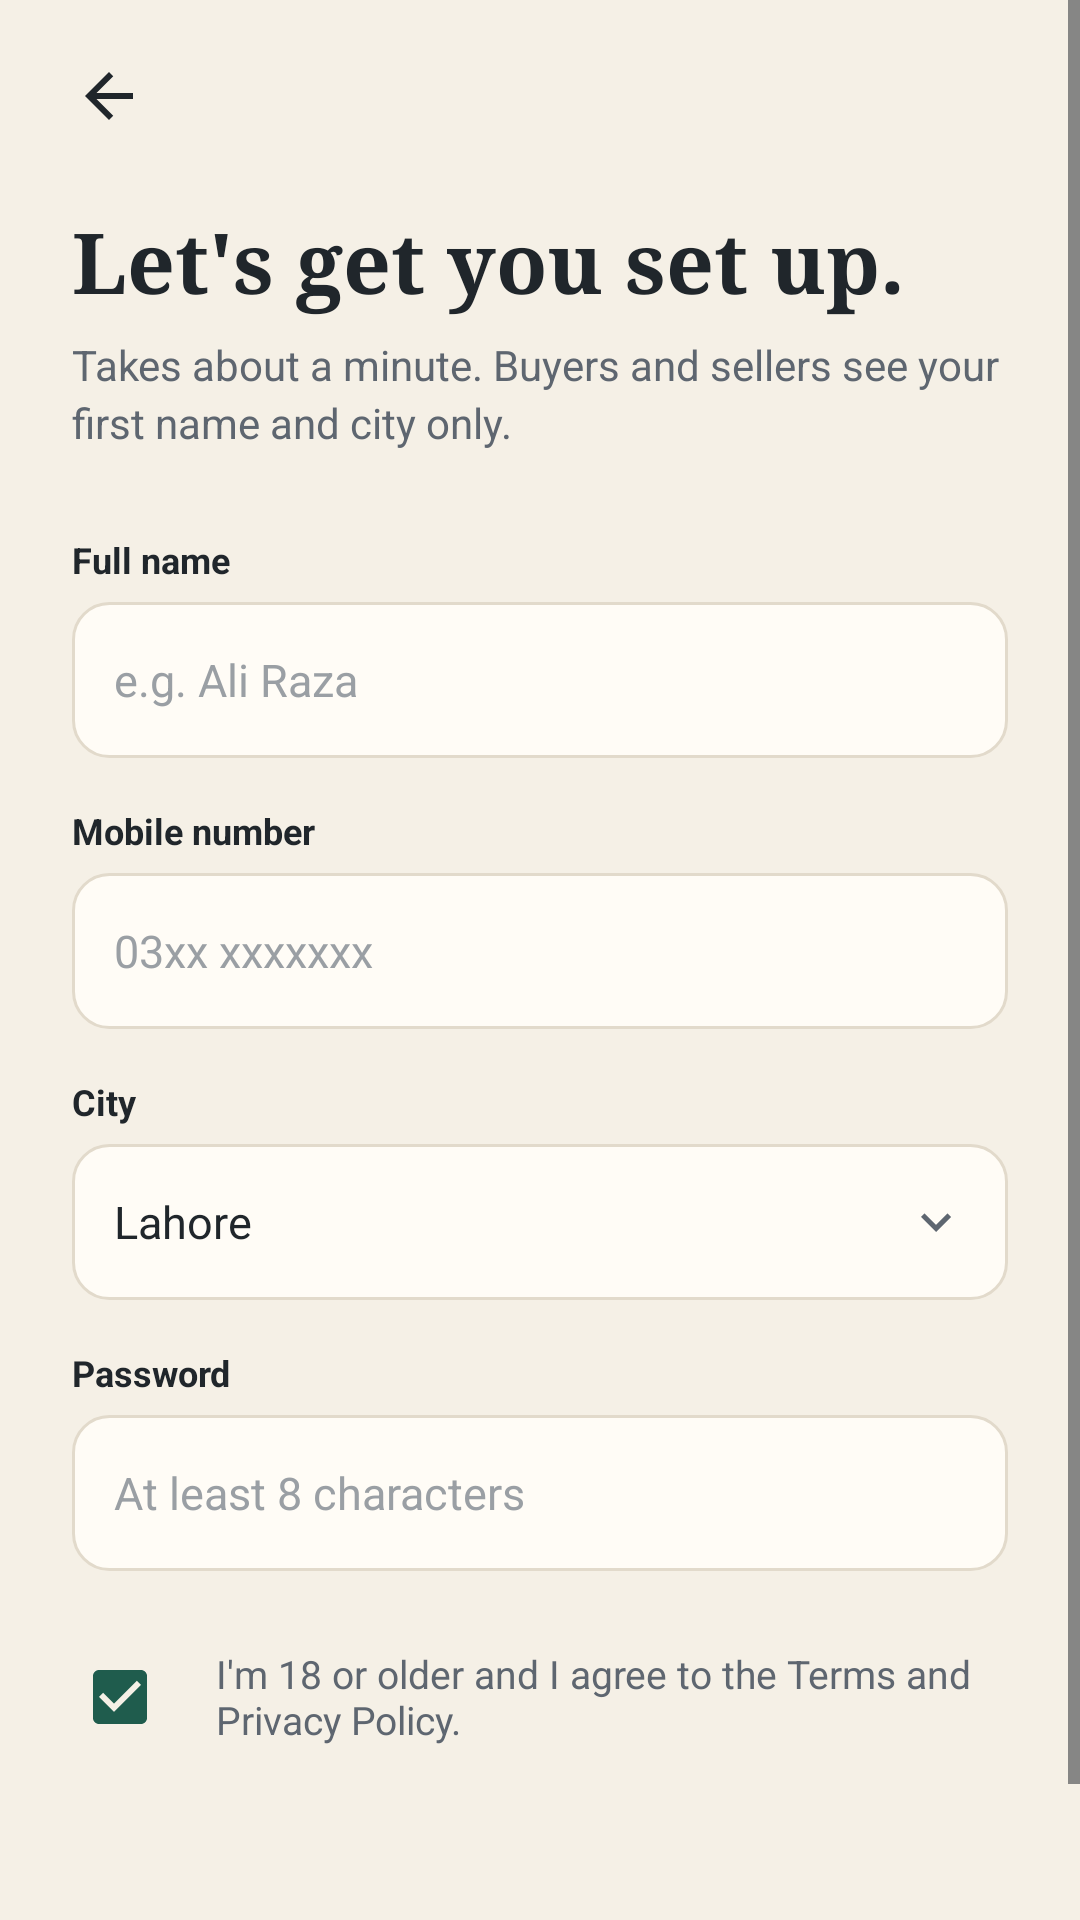

Point at icon controls on the screen. Image size 1080 x 1920, points as [x,y].
Back: [109,96]
expand: [936,1222]
